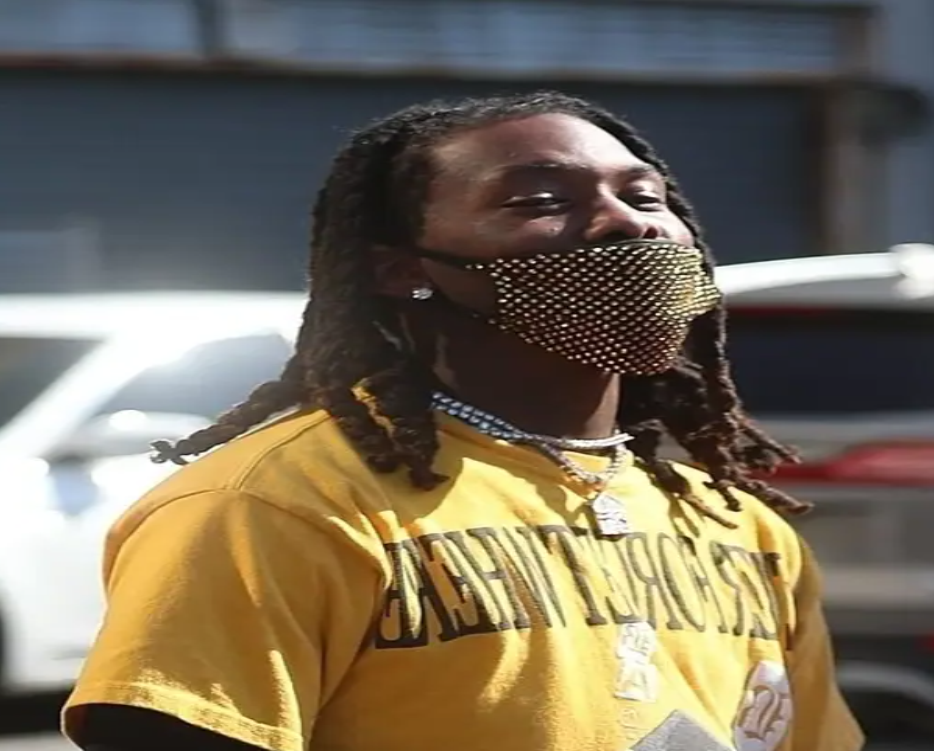mask_weared_incorrect: (317, 90, 729, 377)
